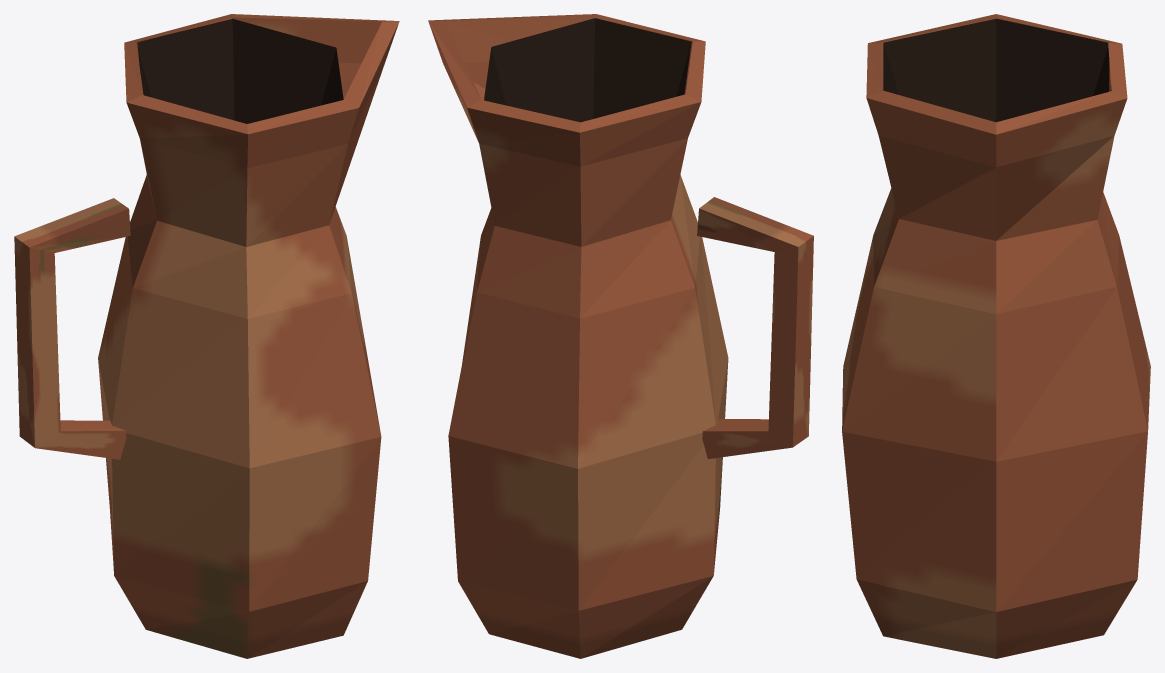
The model's file is SM_PR10_Pitcher.fbx.
3 renders of one model, left to right at view 1: azimuth 30°, elevation 25°; view 2: azimuth 150°, elevation 25°; view 3: azimuth 270°, elevation 25°, orthographic.
Parts seen in each view (by area): view 1: PR10_Pitcher; view 2: PR10_Pitcher; view 3: PR10_Pitcher.
Boxes of the visible parts, x1,y1,x2,y2 form: PR10_Pitcher: (14, 14, 399, 658); PR10_Pitcher: (428, 14, 813, 658); PR10_Pitcher: (842, 14, 1150, 658).
Bounding box in the file's own units: 0.3211 × 0.447 × 0.2231.
